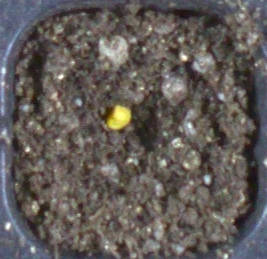pepper seed: (39, 39, 172, 170)
